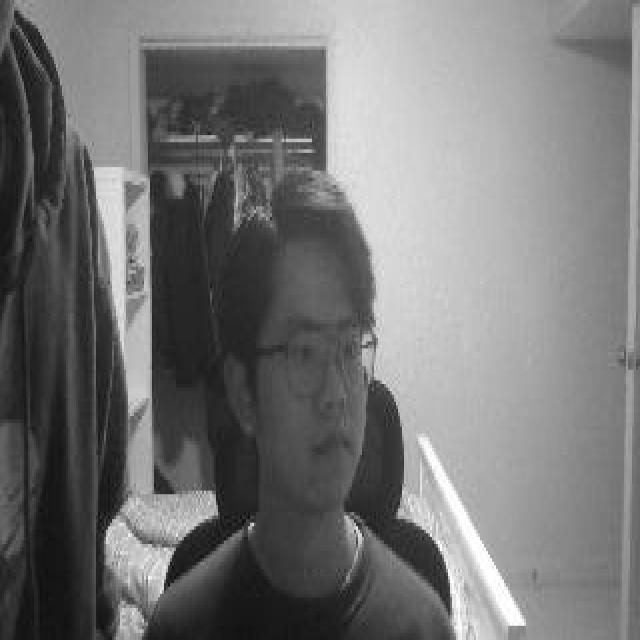Focused: (284, 297, 375, 483)
